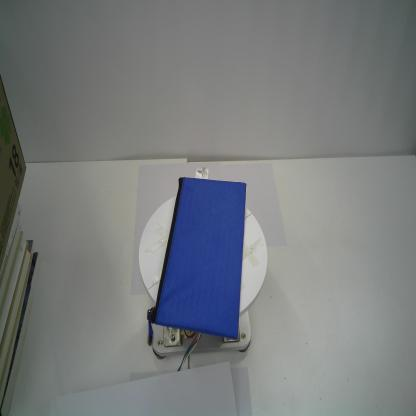Stationery: (146, 177, 246, 348)
